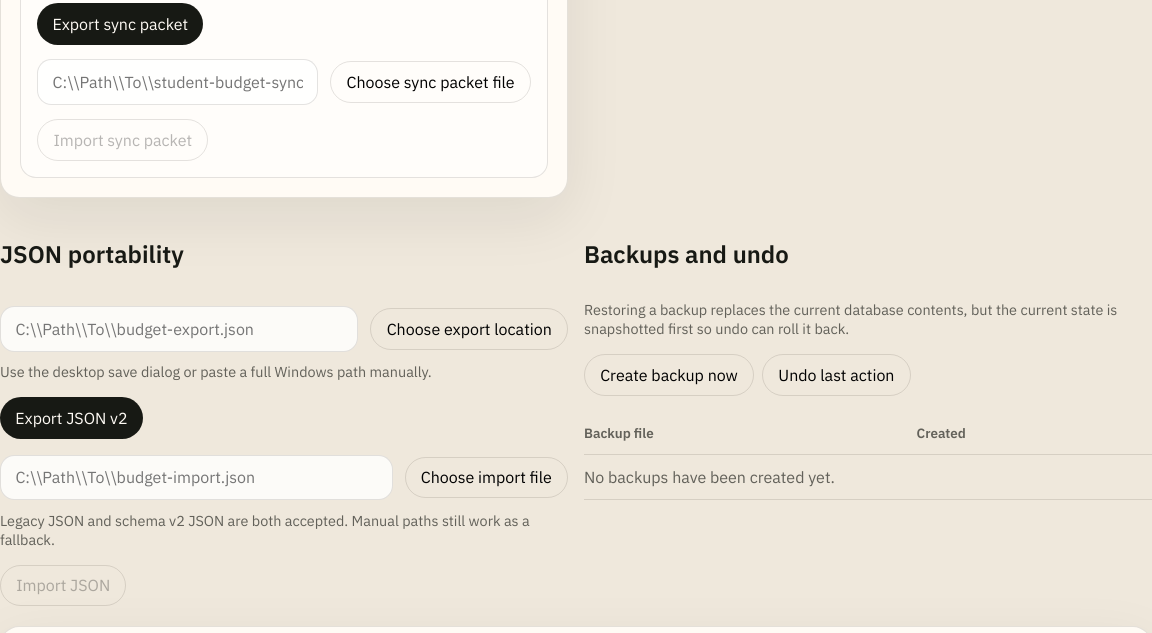
Test: SettingsPage › exports JSON with a trimmed path and does not refresh afterwards
This screenshot has width=1152, height=633.
(page scrolled)
Expected: the button "Export JSON v2" is disabled, [0,397,143,439]
Type "  C:\\Exports\\budget.json  " into the field with placeholder "C:\\\\Path\\\\To\\\\budget-export.json". click: (179,329)
box: [0,306,358,352]
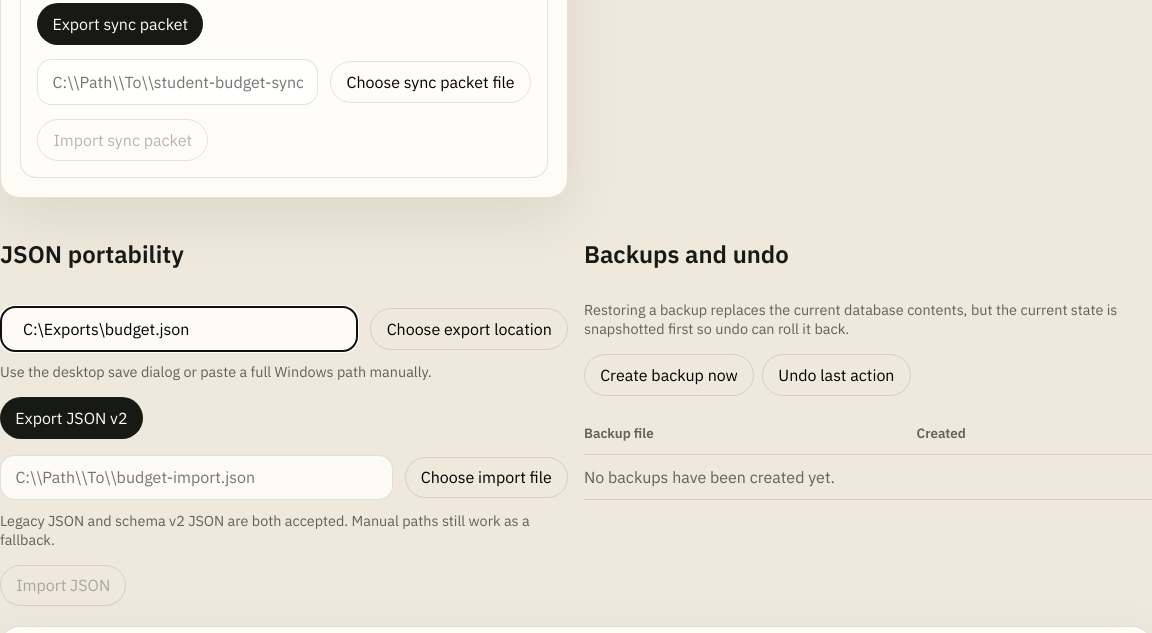
Click the button "Export JSON v2". click: (71,418)
box: [0,397,143,439]
(page scrolled)
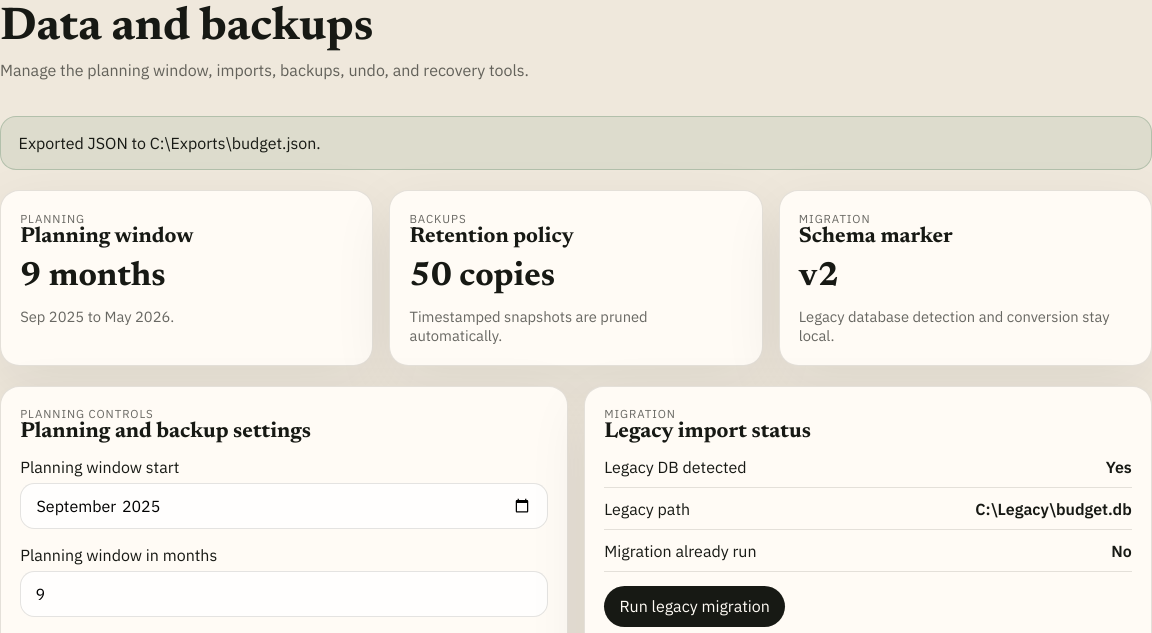
Now the text "Exported JSON to C:\\Exports\\budget.json." is shown, box [19,133,321,153]
